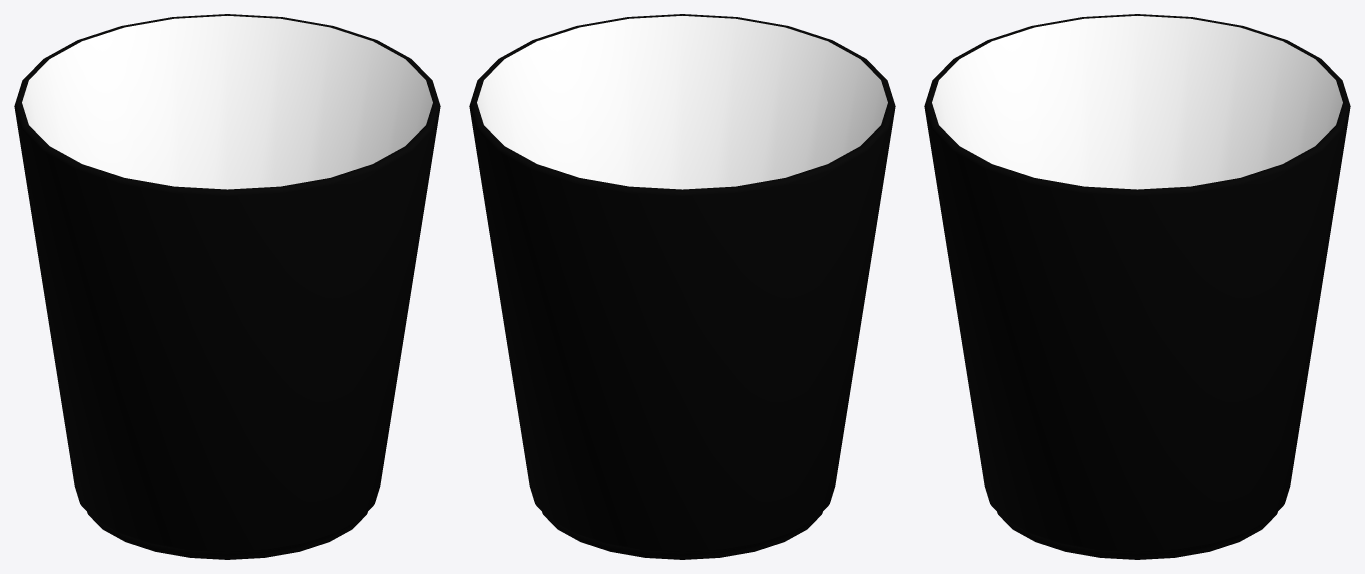
The model's file is cup.glb.
3 renders of one model, left to right at view 1: azimuth 30°, elevation 25°; view 2: azimuth 150°, elevation 25°; view 3: azimuth 270°, elevation 25°, orthographic.
Visible parts, largest first — view 1: Cylinder; view 2: Cylinder; view 3: Cylinder.
Part boxes in pixels (left/top/right/bottom): Cylinder: left=14, top=14, right=440, bottom=559; Cylinder: left=469, top=14, right=895, bottom=559; Cylinder: left=924, top=14, right=1350, bottom=559.
Bounding box in the file's own units: 1.99 × 2.05 × 1.99.
1 material, 1 textured.
